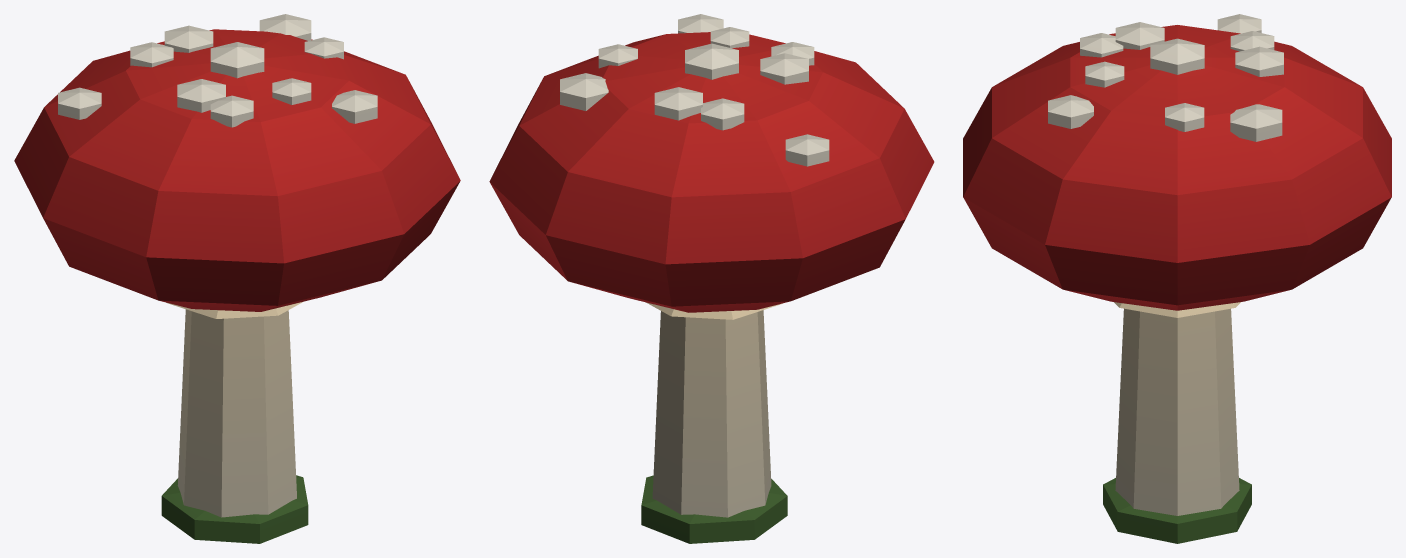
The model's file is toadstool_big.glb.
3 views of the same model, side by side, from view 1: azimuth 30°, elevation 25°; view 2: azimuth 150°, elevation 25°; view 3: azimuth 270°, elevation 25° (orthographic).
Parts seen in each view (by area): view 1: toadstool_big; view 2: toadstool_big; view 3: toadstool_big.
Part boxes in pixels (box(x1,y1,x2,y2)): toadstool_big: box(14, 14, 460, 543); toadstool_big: box(489, 14, 934, 543); toadstool_big: box(963, 14, 1391, 543).
Bounding box in the file's own units: 2.3 × 2.69 × 2.19.
